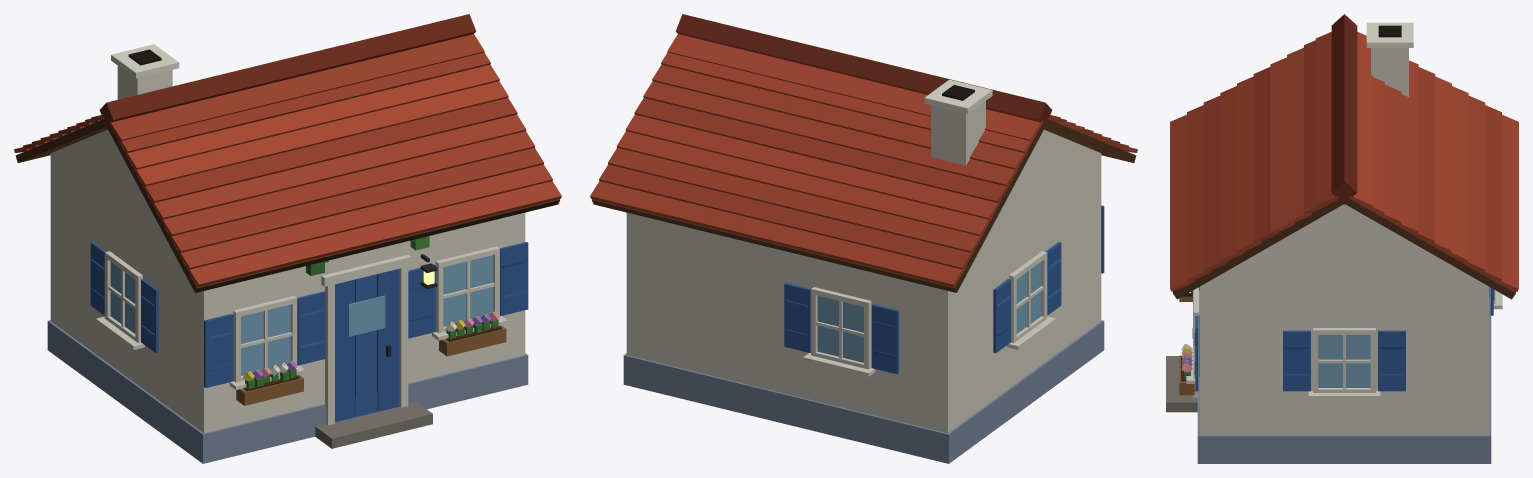
File: casa_vecino_encalada.glb
3 views of the same model, side by side, from view 1: azimuth 30°, elevation 25°; view 2: azimuth 150°, elevation 25°; view 3: azimuth 270°, elevation 25° (orthographic). The views are drawn at different scales.
Visible parts, largest first — view 1: SM_CasaVecino_encalada; view 2: SM_CasaVecino_encalada; view 3: SM_CasaVecino_encalada.
Boxes of the visible parts, x1,y1,x2,y2 form: SM_CasaVecino_encalada: [14, 14, 561, 463]; SM_CasaVecino_encalada: [590, 14, 1137, 463]; SM_CasaVecino_encalada: [1166, 14, 1518, 463].
Bounding box in the file's own units: 5.2 × 4.41 × 4.64.
